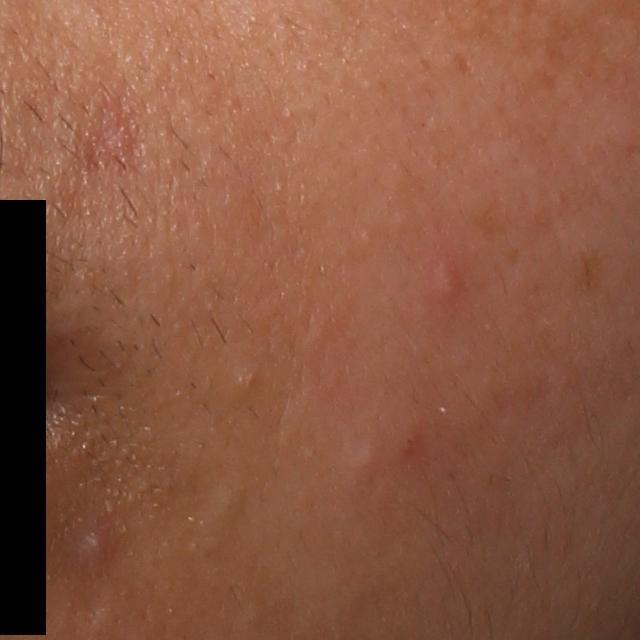comedo: (344, 434, 382, 476)
papule: (428, 257, 467, 299)
